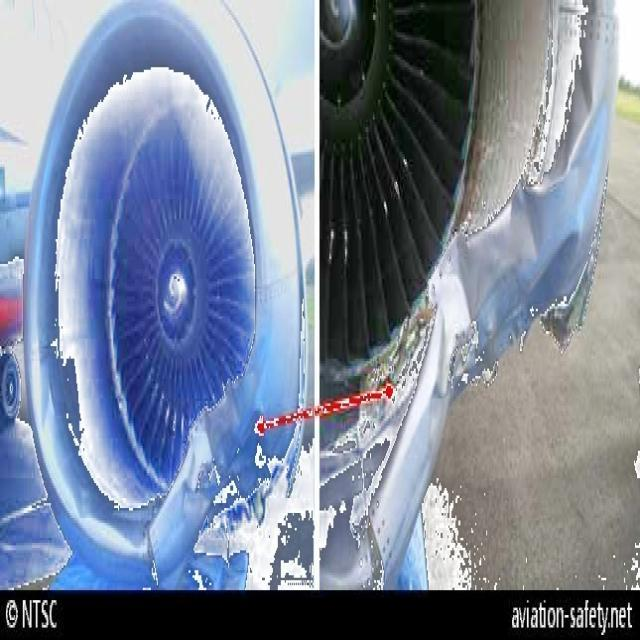dent: (567, 36, 607, 173), (511, 188, 546, 268)
